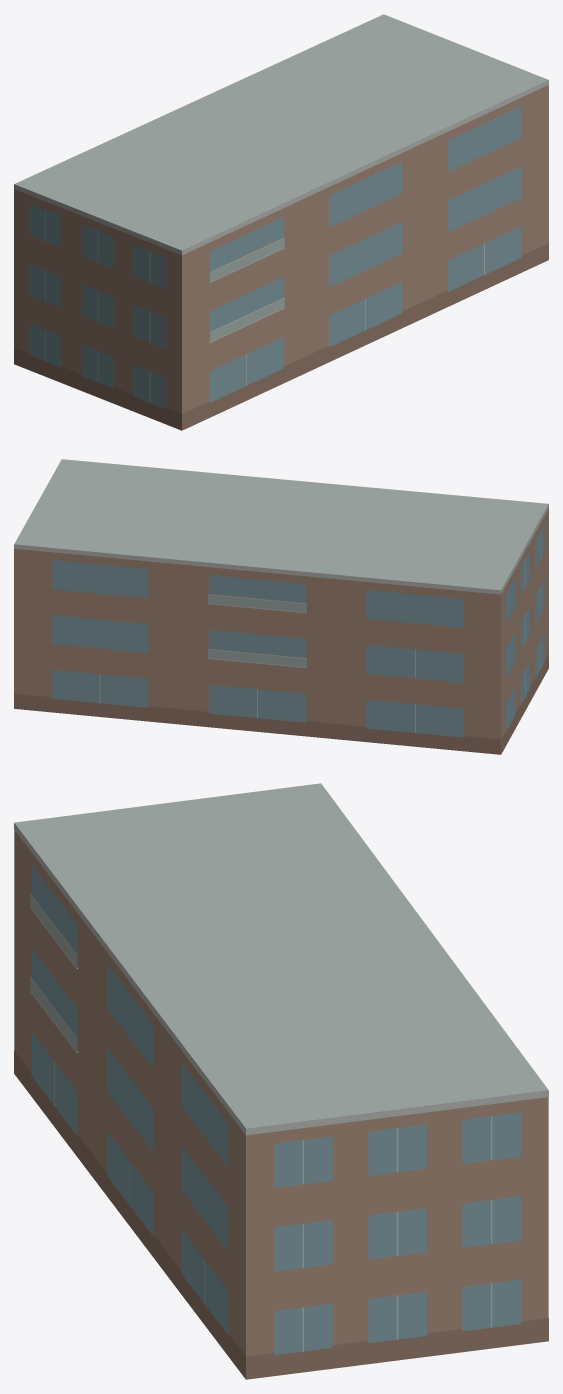
File: survey-upis-32752054.glb
The picture shows the model from 3 angles, top to bottom: view 1: azimuth 30°, elevation 25°; view 2: azimuth 150°, elevation 25°; view 3: azimuth 270°, elevation 25°; orthographic projection. The views are drawn at different scales.
Visible parts, largest first — view 1: survey-upis-32752054.tmp; view 2: survey-upis-32752054.tmp; view 3: survey-upis-32752054.tmp.
Boxes of the visible parts, x1,y1,x2,y2 form: survey-upis-32752054.tmp: [14, 14, 548, 430]; survey-upis-32752054.tmp: [14, 459, 548, 754]; survey-upis-32752054.tmp: [14, 783, 548, 1379].
Size of the model in its own units: 27.02 by 9.15 by 17.68.
